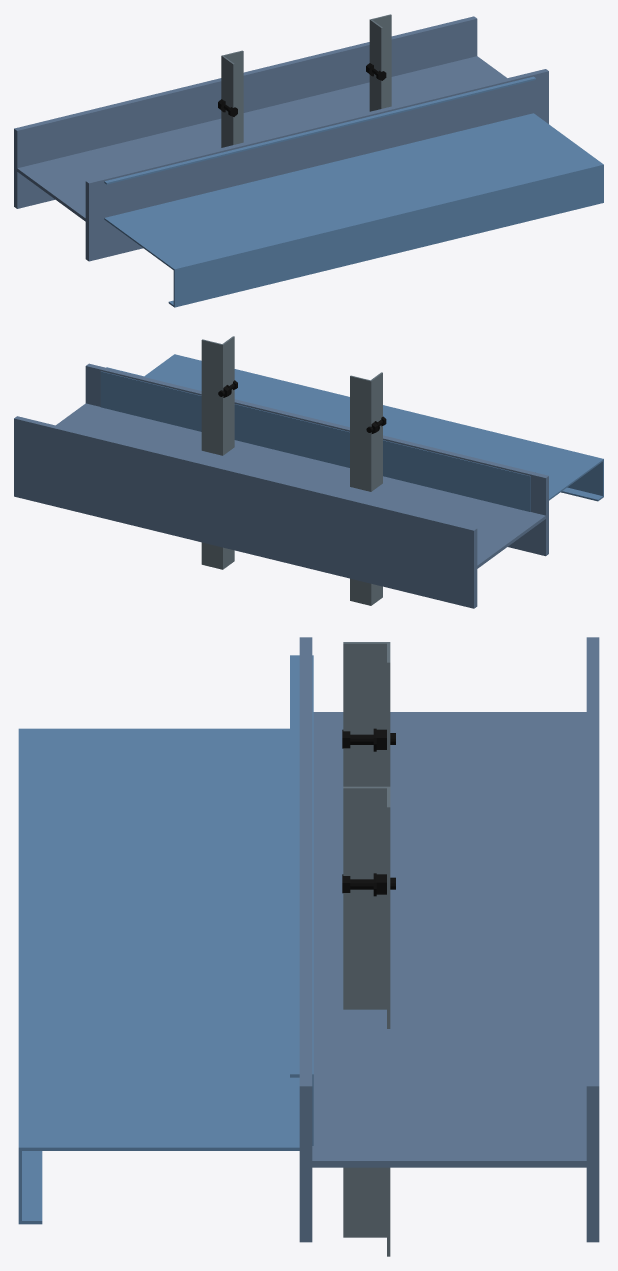
File: purlin_connection.obj
3 views of the same model, one above another, from view 1: azimuth 30°, elevation 25°; view 2: azimuth 150°, elevation 25°; view 3: azimuth 270°, elevation 25° (orthographic). The views are drawn at different scales.
Visible parts, largest first — view 1: purlin_connection_Z250_purlin_web_Z250, purlin_connection_rafter_top_flange, purlin_connection_rafter_bottom_flange, purlin_connection_Z250_purlin_top_flange_Z250, purlin_connection_rafter_web, purlin_connection_Z250_purlin_bottom_lip_Z250, purlin_connection_EA_V_40x40x3_left_vertical_leg, purlin_connection_EA_V_40x40x3_right_horizontal_leg, purlin_connection_EA_V_40x40x3_right_vertical_leg, purlin_connection_EA_V_40x40x3_left_horizontal_leg, purlin_connection_Z250_purlin_top_lip_Z250; view 2: purlin_connection_rafter_bottom_flange, purlin_connection_rafter_web, purlin_connection_Z250_purlin_bottom_flange_Z250, purlin_connection_Z250_purlin_web_Z250, purlin_connection_rafter_top_flange, purlin_connection_EA_V_40x40x3_right_horizontal_leg, purlin_connection_EA_V_40x40x3_left_horizontal_leg, purlin_connection_EA_V_40x40x3_right_vertical_leg, purlin_connection_EA_V_40x40x3_left_vertical_leg, purlin_connection_Z250_purlin_bottom_lip_Z250, purlin_connection_Z250_purlin_top_flange_Z250; view 3: purlin_connection_Z250_purlin_web_Z250, purlin_connection_rafter_web, purlin_connection_EA_V_40x40x3_right_vertical_leg, purlin_connection_rafter_top_flange, purlin_connection_rafter_bottom_flange, purlin_connection_EA_V_40x40x3_left_vertical_leg, purlin_connection_Z250_purlin_bottom_lip_Z250, purlin_connection_Z250_purlin_top_lip_Z250, purlin_connection_EA_V_40x40x3_right_horizontal_leg, purlin_connection_Z250_purlin_bottom_flange_Z250.
Boxes of the visible parts, <box> form: purlin_connection_Z250_purlin_web_Z250: <box>104,113,603,270</box>; purlin_connection_rafter_top_flange: <box>85,69,548,261</box>; purlin_connection_rafter_bottom_flange: <box>14,16,477,208</box>; purlin_connection_Z250_purlin_top_flange_Z250: <box>173,165,603,307</box>; purlin_connection_rafter_web: <box>17,56,506,221</box>; purlin_connection_Z250_purlin_bottom_lip_Z250: <box>104,76,535,184</box>; purlin_connection_EA_V_40x40x3_left_vertical_leg: <box>221,55,234,147</box>; purlin_connection_EA_V_40x40x3_right_horizontal_leg: <box>369,14,391,111</box>; purlin_connection_EA_V_40x40x3_right_vertical_leg: <box>370,19,382,111</box>; purlin_connection_EA_V_40x40x3_left_horizontal_leg: <box>221,50,243,146</box>; purlin_connection_Z250_purlin_top_lip_Z250: <box>168,201,603,306</box>; purlin_connection_rafter_bottom_flange: <box>14,416,477,608</box>; purlin_connection_rafter_web: <box>56,403,545,568</box>; purlin_connection_Z250_purlin_bottom_flange_Z250: <box>100,371,530,511</box>; purlin_connection_Z250_purlin_web_Z250: <box>144,354,603,500</box>; purlin_connection_rafter_top_flange: <box>85,363,548,556</box>; purlin_connection_EA_V_40x40x3_right_horizontal_leg: <box>201,339,223,569</box>; purlin_connection_EA_V_40x40x3_left_horizontal_leg: <box>350,375,371,605</box>; purlin_connection_EA_V_40x40x3_right_vertical_leg: <box>221,336,234,569</box>; purlin_connection_EA_V_40x40x3_left_vertical_leg: <box>369,372,382,605</box>; purlin_connection_Z250_purlin_bottom_lip_Z250: <box>101,367,535,477</box>; purlin_connection_Z250_purlin_top_flange_Z250: <box>567,460,603,497</box>; purlin_connection_Z250_purlin_web_Z250: <box>18,728,299,1150</box>; purlin_connection_rafter_web: <box>312,712,586,1167</box>; purlin_connection_EA_V_40x40x3_right_vertical_leg: <box>343,786,390,1237</box>; purlin_connection_rafter_top_flange: <box>299,637,312,1242</box>; purlin_connection_rafter_bottom_flange: <box>586,637,599,1242</box>; purlin_connection_EA_V_40x40x3_left_vertical_leg: <box>343,642,390,786</box>; purlin_connection_Z250_purlin_bottom_lip_Z250: <box>290,655,313,1077</box>; purlin_connection_Z250_purlin_top_lip_Z250: <box>19,1151,42,1224</box>; purlin_connection_EA_V_40x40x3_right_horizontal_leg: <box>387,787,390,1256</box>; purlin_connection_Z250_purlin_bottom_flange_Z250: <box>312,655,313,1145</box>.
Size of the model in its own units: 900 by 420 by 492.
